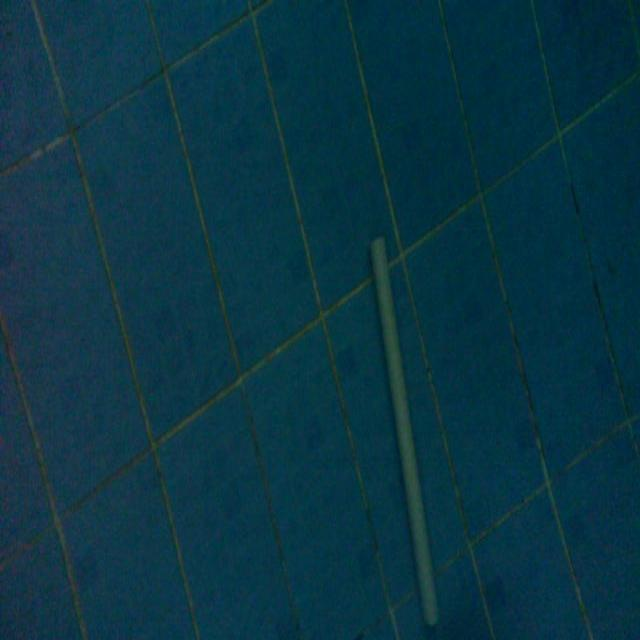Cube: (367, 231, 442, 628)
